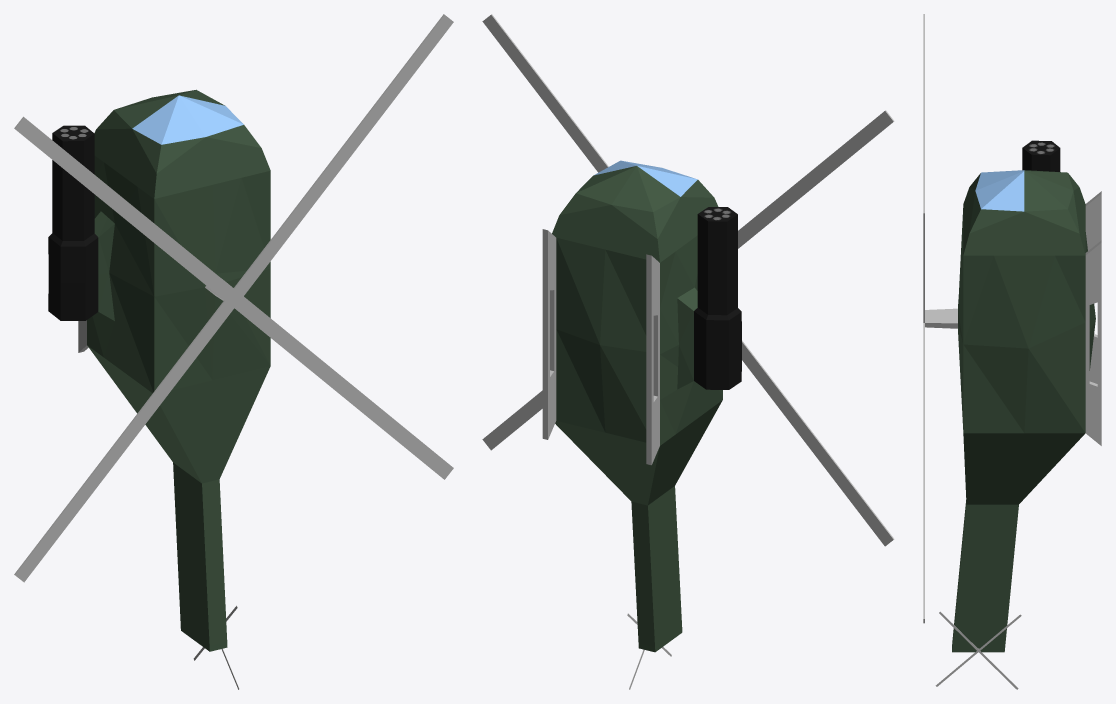
File: enemy1.obj
3 views of the same model, side by side, from view 1: azimuth 30°, elevation 25°; view 2: azimuth 150°, elevation 25°; view 3: azimuth 270°, elevation 25° (orthographic). The views are drawn at different scales.
Parts seen in each view (by area): view 1: Cube; view 2: Cube; view 3: Cube.
Part boxes in pixels (x1,y1,x2,y2): Cube: (14,14,453,689); Cube: (482,14,894,689); Cube: (923,14,1101,689).
Size of the model in its own units: 9.39 by 12.98 by 3.63.
1 material, 1 textured.
